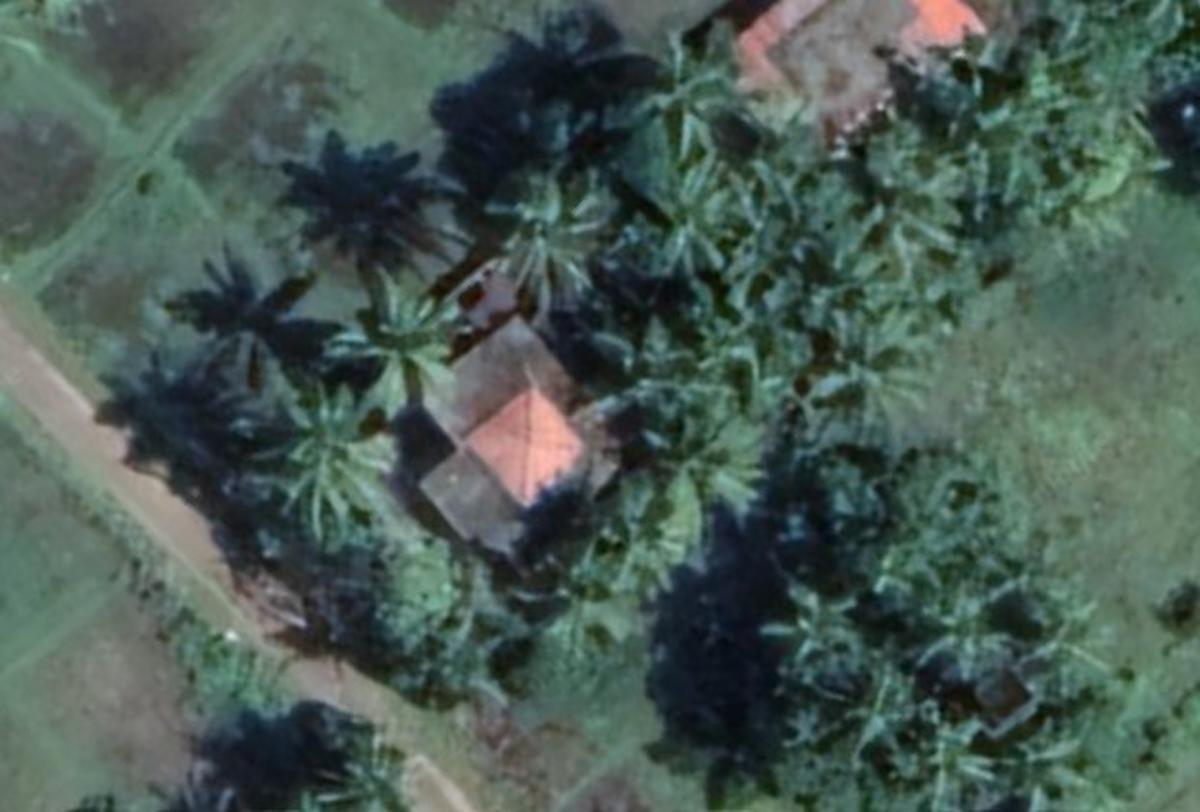coconut: (276, 386, 405, 527), (640, 153, 755, 305), (330, 275, 459, 407), (486, 171, 605, 307), (515, 550, 653, 667), (632, 392, 767, 509), (632, 34, 750, 159), (848, 165, 967, 277), (815, 309, 938, 415), (755, 579, 873, 677), (898, 581, 1001, 688), (313, 727, 442, 812), (590, 317, 701, 415), (900, 708, 1001, 812), (828, 665, 926, 769), (1009, 598, 1115, 690), (994, 725, 1098, 802)
